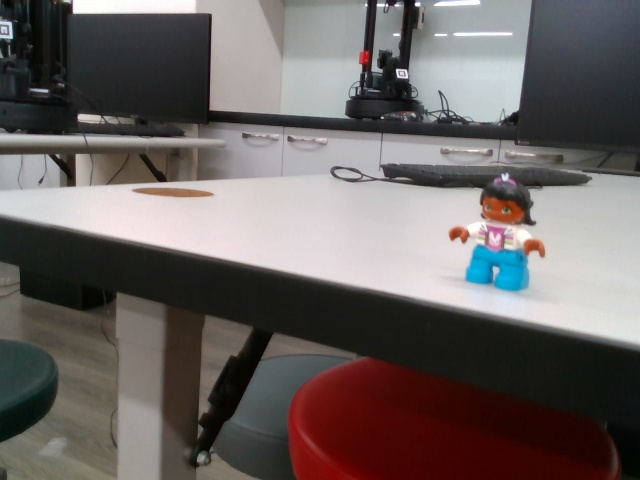people: (446, 172, 548, 292)
